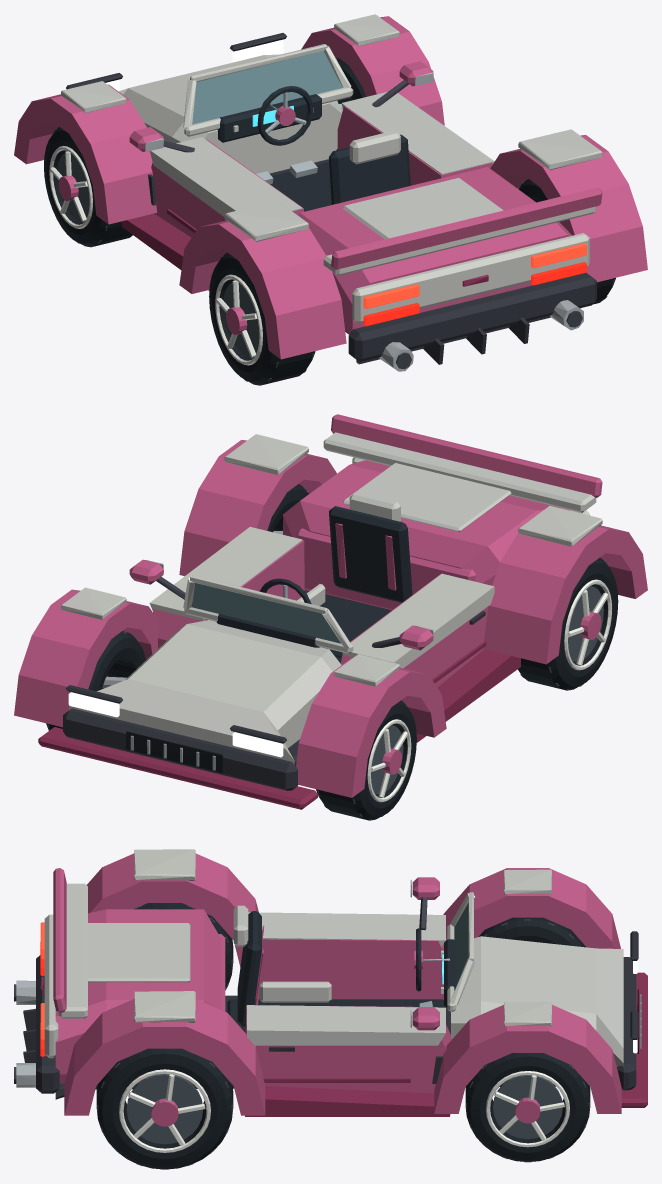
The model's file is slide_lod0.glb.
3 views of the same model, one above another, from view 1: azimuth 30°, elevation 25°; view 2: azimuth 150°, elevation 25°; view 3: azimuth 270°, elevation 25° (orthographic).
Parts seen in each view (by area): view 1: body_mesh, wheel_rl, wheel_fl, steering_wheel, light_tail_mesh, light_brake_mesh, light_head_mesh, wheel_rr; view 2: body_mesh, wheel_rl, wheel_fl, wheel_fr, light_head_mesh, wheel_rr; view 3: body_mesh, wheel_rr, wheel_fr, wheel_fl, wheel_rl.
Part boxes in pixels (left/top/right/bottom): body_mesh: left=14, top=14, right=647, bottom=371; wheel_rl: left=209, top=252, right=315, bottom=385; wheel_fl: left=44, top=127, right=132, bottom=247; steering_wheel: left=257, top=86, right=313, bottom=145; light_tail_mesh: left=363, top=243, right=586, bottom=308; light_brake_mesh: left=363, top=262, right=586, bottom=326; light_head_mesh: left=106, top=40, right=283, bottom=91; wheel_rr: left=518, top=179, right=615, bottom=304; body_mesh: left=14, top=414, right=647, bottom=809; wheel_rl: left=518, top=557, right=618, bottom=690; wheel_fl: left=316, top=700, right=416, bottom=820; wheel_fr: left=46, top=631, right=145, bottom=730; light_head_mesh: left=68, top=692, right=283, bottom=757; wheel_rr: left=267, top=484, right=308, bottom=532; body_mesh: left=14, top=849, right=647, bottom=1116; wheel_rr: left=96, top=1048, right=233, bottom=1169; wheel_fr: left=465, top=1053, right=590, bottom=1162; wheel_fl: left=478, top=917, right=586, bottom=947; wheel_rl: left=134, top=903, right=233, bottom=990.
Size of the model in its own units: 2.15 by 0.98 by 3.25.
